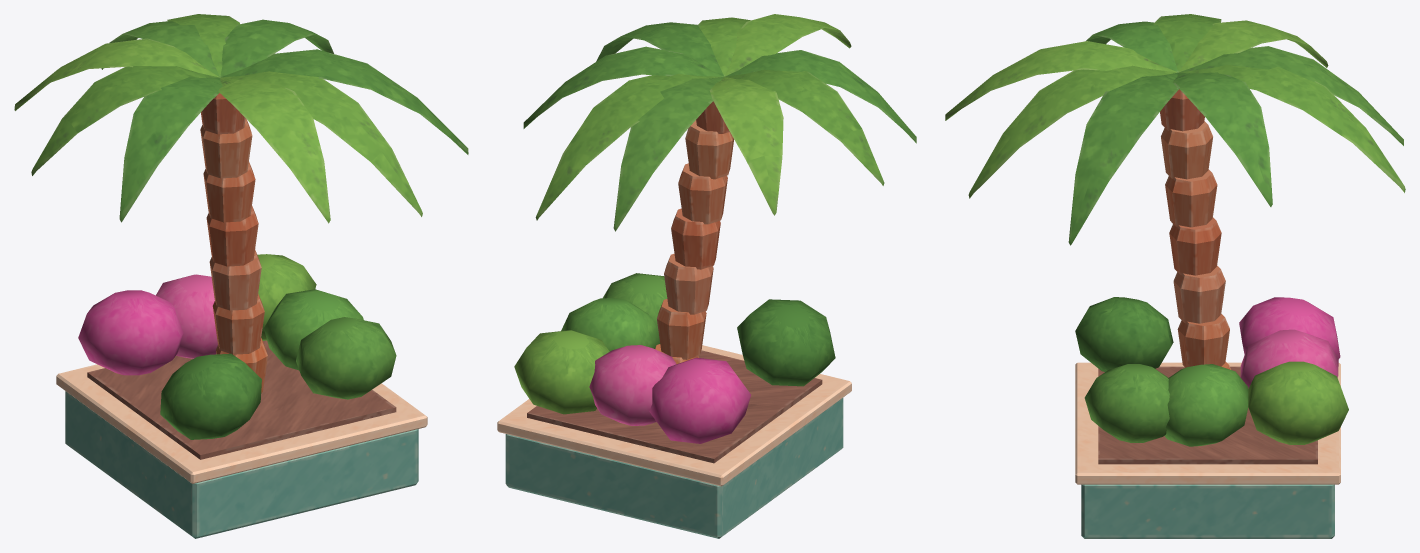
Rendered from palm_bed.fbx.
3 renders of one model, left to right at view 1: azimuth 30°, elevation 25°; view 2: azimuth 150°, elevation 25°; view 3: azimuth 270°, elevation 25°, orthographic. The views are drawn at different scales.
Parts seen in each view (by area): view 1: palm_bed; view 2: palm_bed; view 3: palm_bed.
Part boxes in pixels (x1=…): palm_bed: x1=14, y1=14, x2=468, y2=538; palm_bed: x1=497, y1=14, x2=916, y2=538; palm_bed: x1=945, y1=14, x2=1405, y2=538.
Bounding box in the file's own units: 9.84 × 10.85 × 10.88.
Materials: 1 (1 with a texture image).
